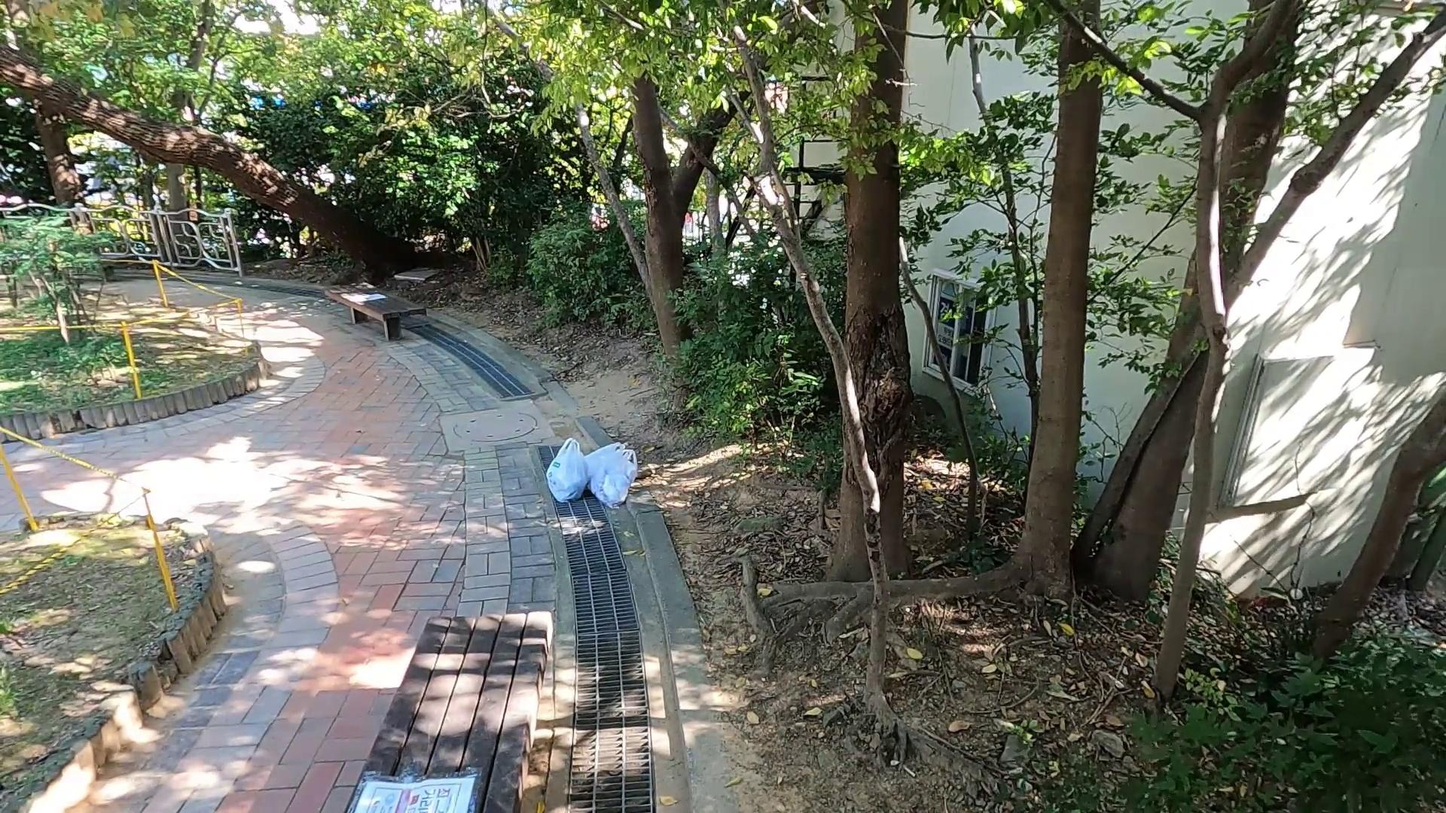trash: (547, 437, 587, 502), (594, 450, 639, 505), (586, 441, 625, 480)
